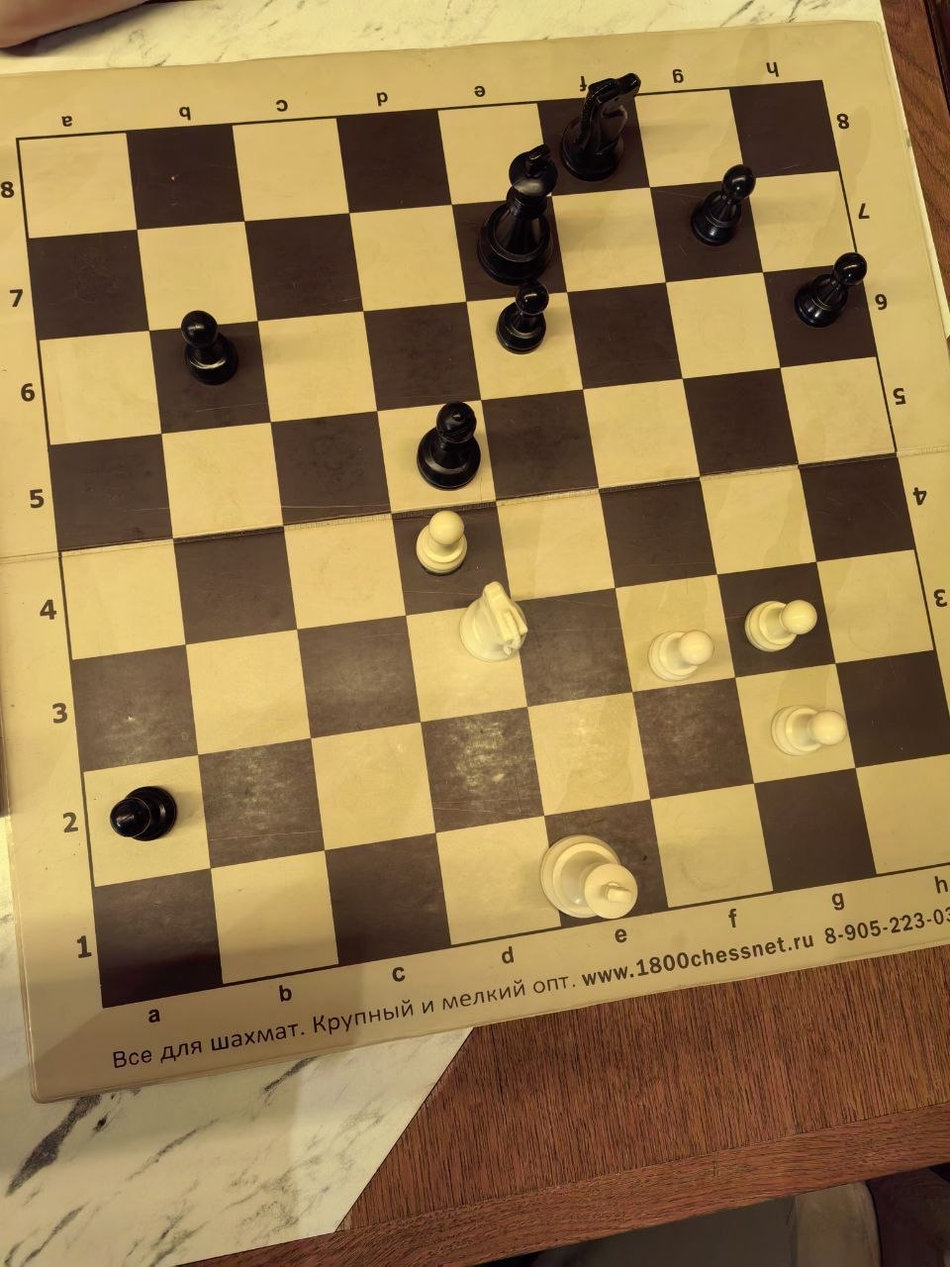black-bishop: (475, 1109, 594, 1267)
black-queen: (356, 792, 475, 950)
black-rook: (712, 950, 831, 1109), (356, 634, 475, 792), (712, 792, 831, 950), (594, 792, 712, 950)
white-bishop: (475, 158, 594, 317)
white-pawn: (356, 475, 475, 634)
white-queen: (594, 0, 712, 158)
white-rook: (712, 158, 831, 317), (0, 950, 119, 1109), (119, 317, 238, 475), (475, 317, 594, 475), (831, 317, 950, 475)
